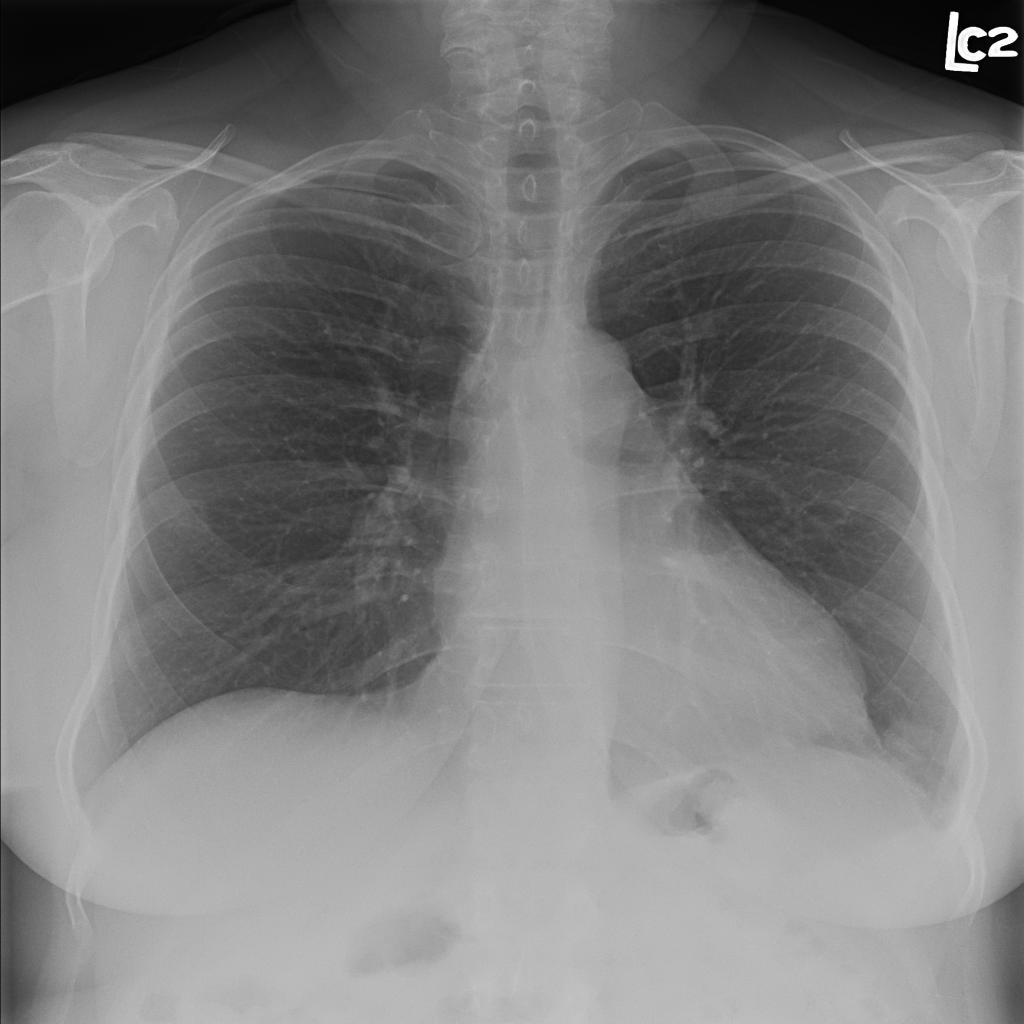Nodule: (517, 363, 561, 395)
